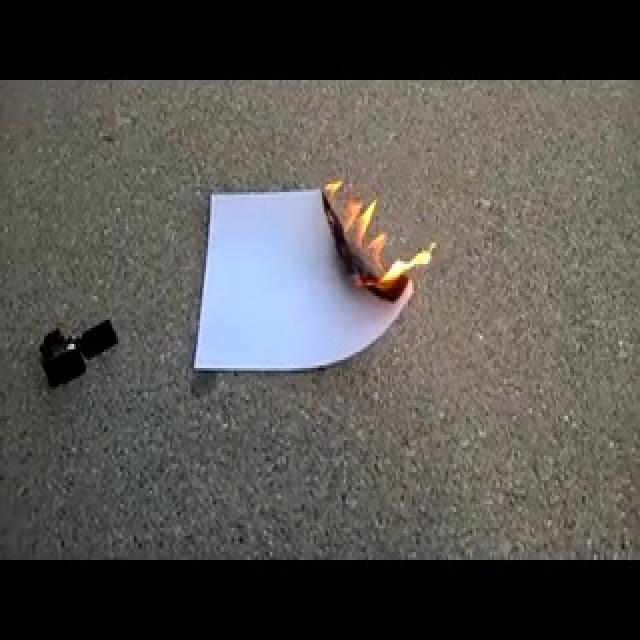Fire: (322, 173, 444, 310)
